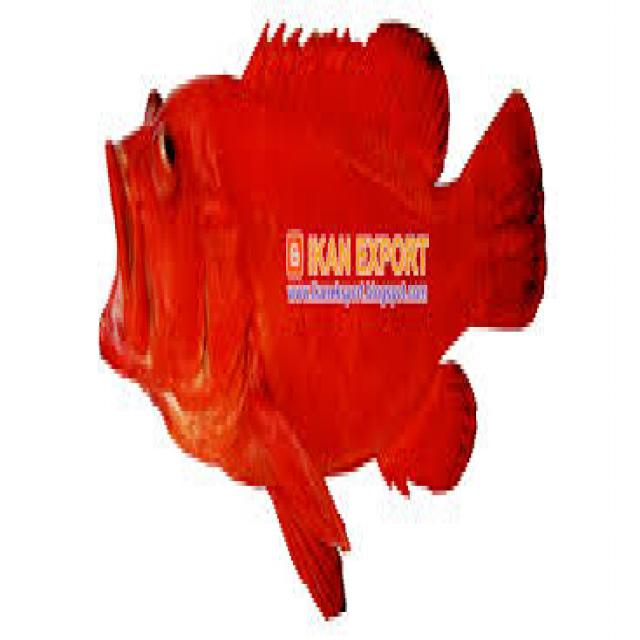Plectropomus-leopardus: (78, 18, 551, 634)
